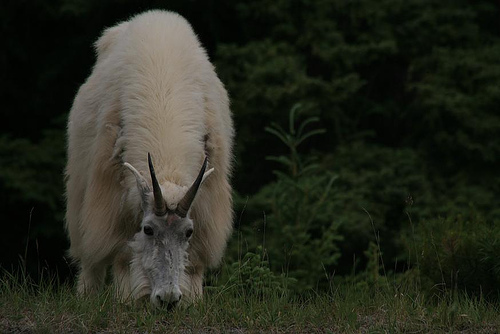goat: (60, 8, 236, 314)
